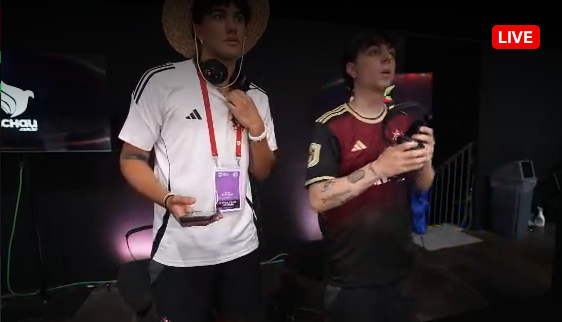person: (116, 0, 280, 321), (303, 31, 437, 320)
